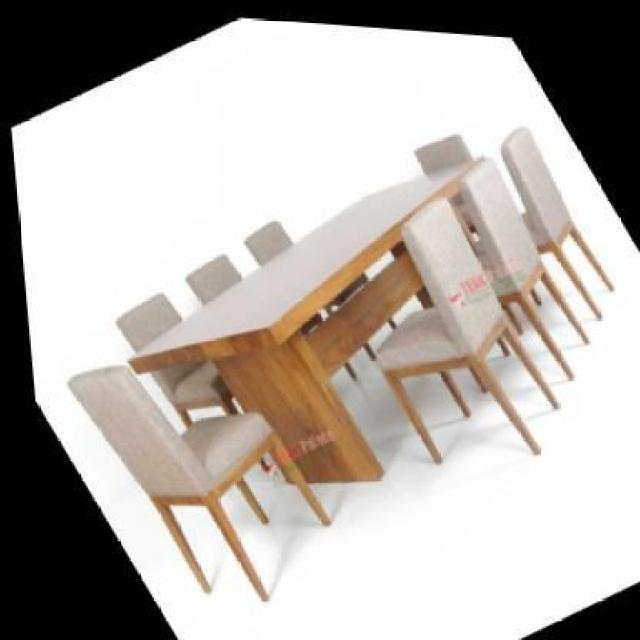tables: (125, 157, 480, 526)
